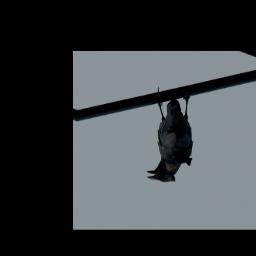Crow: (146, 85, 195, 187)
